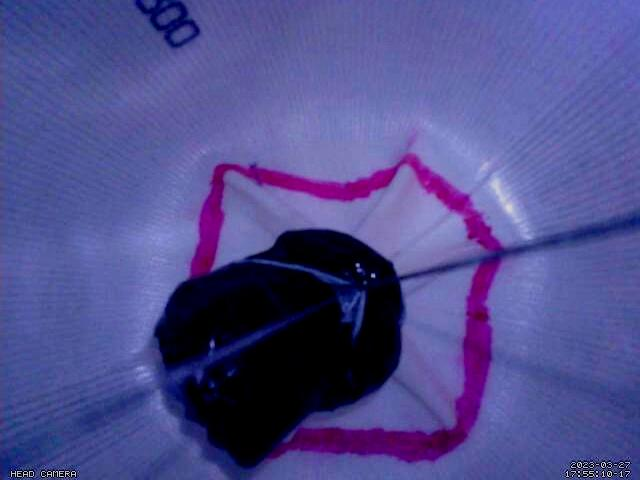red-circle: (189, 152, 503, 464)
